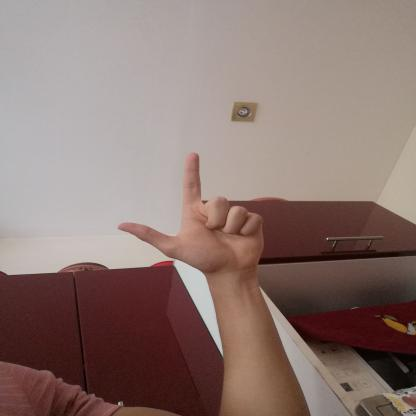LAAM: (100, 145, 274, 280)
